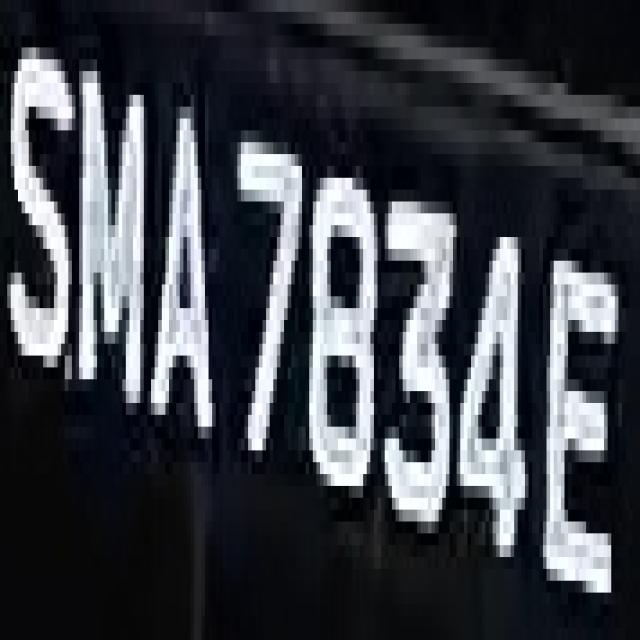3: (370, 142, 453, 557)
4: (453, 178, 536, 581)
7: (223, 83, 298, 498)
8: (295, 130, 381, 522)
A: (148, 47, 208, 498)
E: (539, 189, 618, 640)
M: (72, 24, 151, 462)
S: (4, 12, 76, 403)
